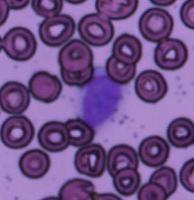L: (77, 66, 128, 130)
